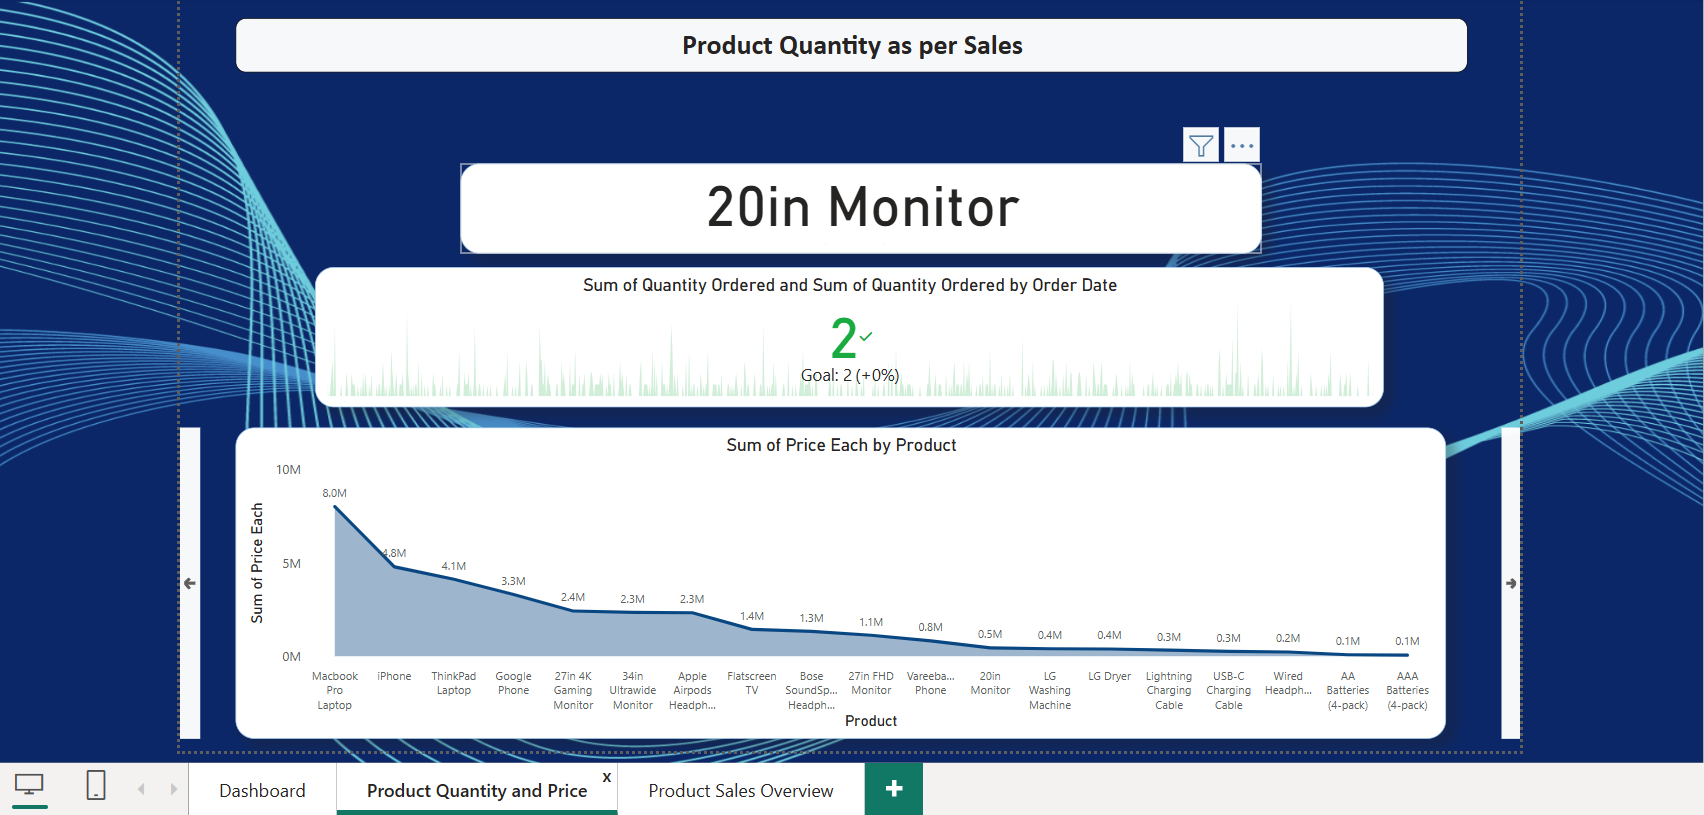

The page's visual inventory and layout, read from the dashboard file:
{"tool":"powerbi","page":{"name":"Product Quantity and Price","canvas":[1280,720],"ordinal":1},"visuals":[{"type":"card","fields":{"Values":["Min(Sales Data Analysis.Product)"]},"box":[267.7,159.2,765.4,86.2],"z":0},{"type":"kpi","fields":{"TrendLine":["Sales Data Analysis.Order Date"],"Indicator":["Sum(Sales Data Analysis.Quantity Ordered)"],"Goal":["Sum(Sales Data Analysis.Quantity Ordered)"]},"box":[129.2,258.5,1020.8,133.8],"z":1000},{"type":"areaChart","title":"Sum of Price Each by Product","fields":{"Category":["Sales Data Analysis.Product"],"Y":["Sum(Sales Data Analysis.Price Each)"]},"box":[52.4,410.6,1156,297.4],"z":2000},{"type":"textbox","box":[52.3,20.8,1176.9,52.3],"z":3000},{"type":"actionButton","box":[1262.5,410.6,18,297.5],"z":4000},{"type":"actionButton","box":[0,410.6,19.4,297.5],"z":5000}]}

Visuals, with their boxes on the page's 1280x720 design canvas (x1, y1, x2, y2). These are canvas units, not pixel positions in the 1704x815 screenshot, which may show the page scaled, cropped or inside an application window:
card - Min(Sales Data Analysis.Product): box(268, 159, 1033, 245)
kpi - Sales Data Analysis.Order Date x Sum(Sales Data Analysis.Quantity Ordered): box(129, 258, 1150, 392)
"Sum of Price Each by Product" areaChart: box(52, 411, 1208, 708)
textbox: box(52, 21, 1229, 73)
actionButton: box(1262, 411, 1280, 708)
actionButton: box(0, 411, 19, 708)
